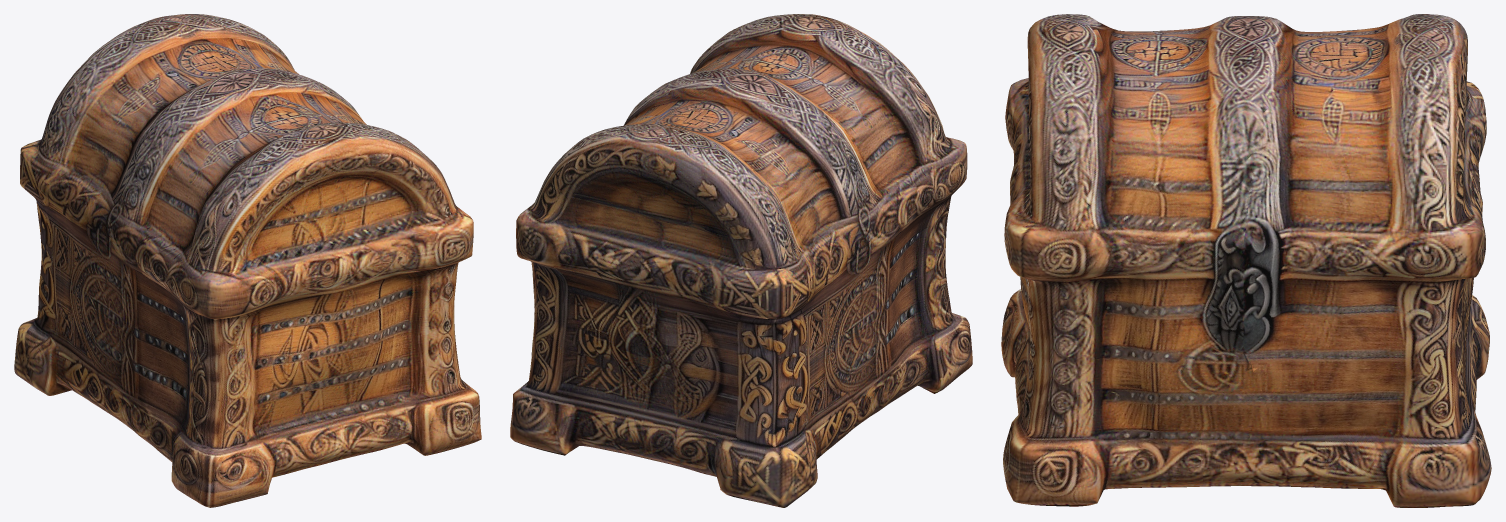
File: wooden_brown_magic_t_0502101523_refine.fbx
3 views of the same model, side by side, from view 1: azimuth 30°, elevation 25°; view 2: azimuth 150°, elevation 25°; view 3: azimuth 270°, elevation 25° (orthographic). The views are drawn at different scales.
Parts seen in each view (by area): view 1: Mesh_0; view 2: Mesh_0; view 3: Mesh_0.
Boxes of the visible parts, <box> form: Mesh_0: <box>14,14,481,507</box>; Mesh_0: <box>510,14,972,507</box>; Mesh_0: <box>1001,14,1491,507</box>.
Size of the model in its own units: 99.04 by 110 by 120.
1 material, 1 textured.
